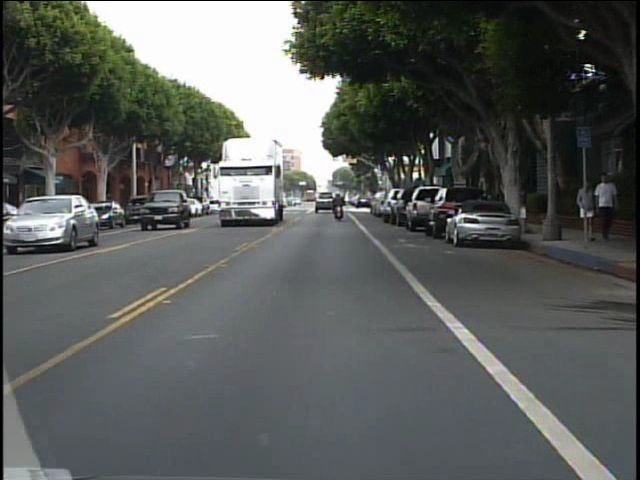person: (593, 170, 618, 241), (571, 175, 593, 239), (330, 190, 350, 221)
